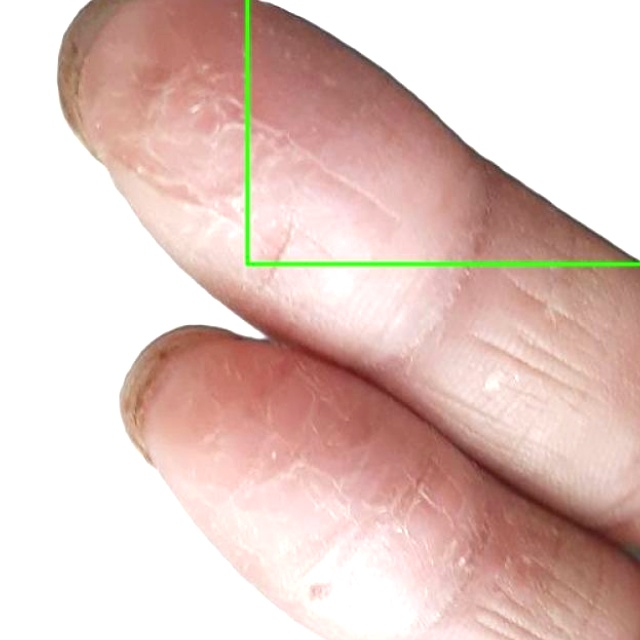Contact Dermatitis: (247, 0, 639, 264)
